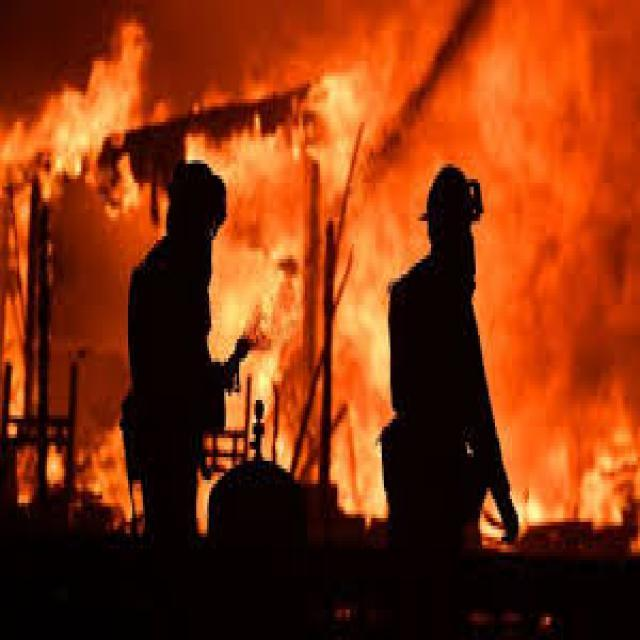fire: (195, 99, 414, 515)
